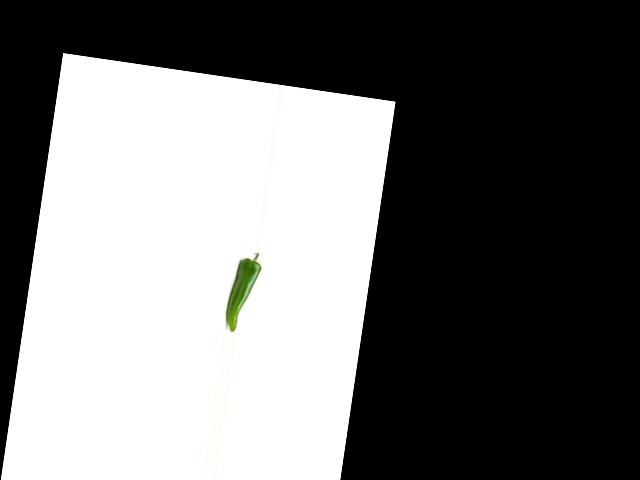bell_pepper: (221, 246, 265, 335)
